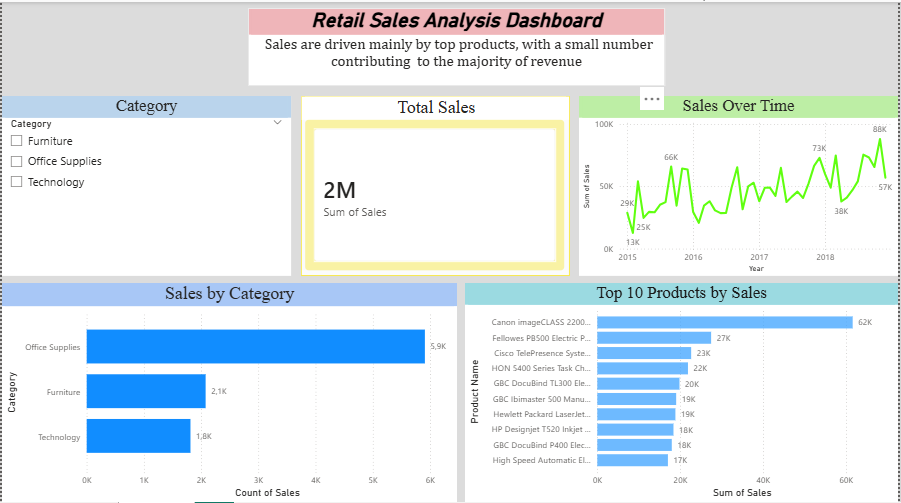

What the dashboard file says about the page in this screenshot:
{"tool":"powerbi","page":{"name":"Page 1","canvas":[1280,720],"ordinal":0},"visuals":[{"type":"clusteredBarChart","title":"Sales by Category","fields":{"Category":["train.Category"],"Y":["CountNonNull(train.Sales)"]},"box":[0,407.1,650,312.9],"z":0},{"type":"cardVisual","title":"Total Sales","fields":{"Data":["Sum(train.Sales)"]},"box":[427.1,140,384.3,257.1],"z":1000},{"type":"lineChart","title":"Sales Over Time","fields":{"Y":["Sum(train.Sales)"],"Category":["train.Order Date.Variation.Date Hierarchy.Year","train.Order Date.Variation.Date Hierarchy.Month"]},"box":[824.3,140,455.7,257.1],"z":2000},{"type":"slicer","title":"Category","fields":{"Values":["train.Category"]},"box":[0,140,412.9,257.1],"z":3000},{"type":"clusteredBarChart","title":"Top 10 Products by Sales","fields":{"Category":["train.Product Name"],"Y":["Sum(train.Sales)"]},"box":[661.4,407.1,618.6,312.9],"z":4000},{"type":"textbox","title":"Retail Sales Analysis Dashboard","box":[351.4,14.3,595.7,111.4],"z":4001}]}

Visuals, with their boxes in screenshot pixels (x1, y1, x2, y2), scaled from the page's 1280x720 canvas onto the 901x503 screenshot:
"Sales by Category" clusteredBarChart: {"x1": 0, "y1": 284, "x2": 458, "y2": 502}
"Total Sales" cardVisual: {"x1": 301, "y1": 98, "x2": 571, "y2": 277}
"Sales Over Time" lineChart: {"x1": 580, "y1": 98, "x2": 900, "y2": 277}
"Category" slicer: {"x1": 0, "y1": 98, "x2": 291, "y2": 277}
"Top 10 Products by Sales" clusteredBarChart: {"x1": 466, "y1": 284, "x2": 900, "y2": 502}
"Retail Sales Analysis Dashboard" textbox: {"x1": 247, "y1": 10, "x2": 667, "y2": 88}
